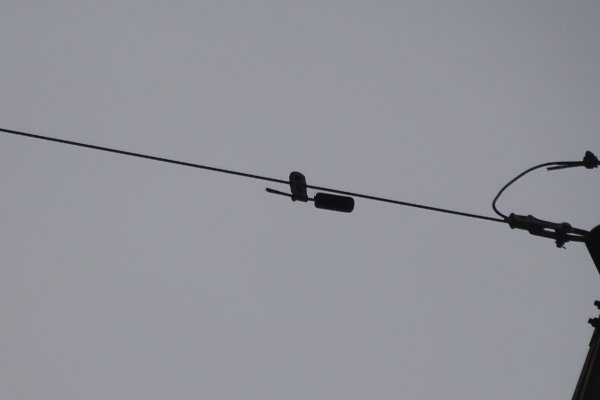damper_defect: (261, 170, 355, 214)
